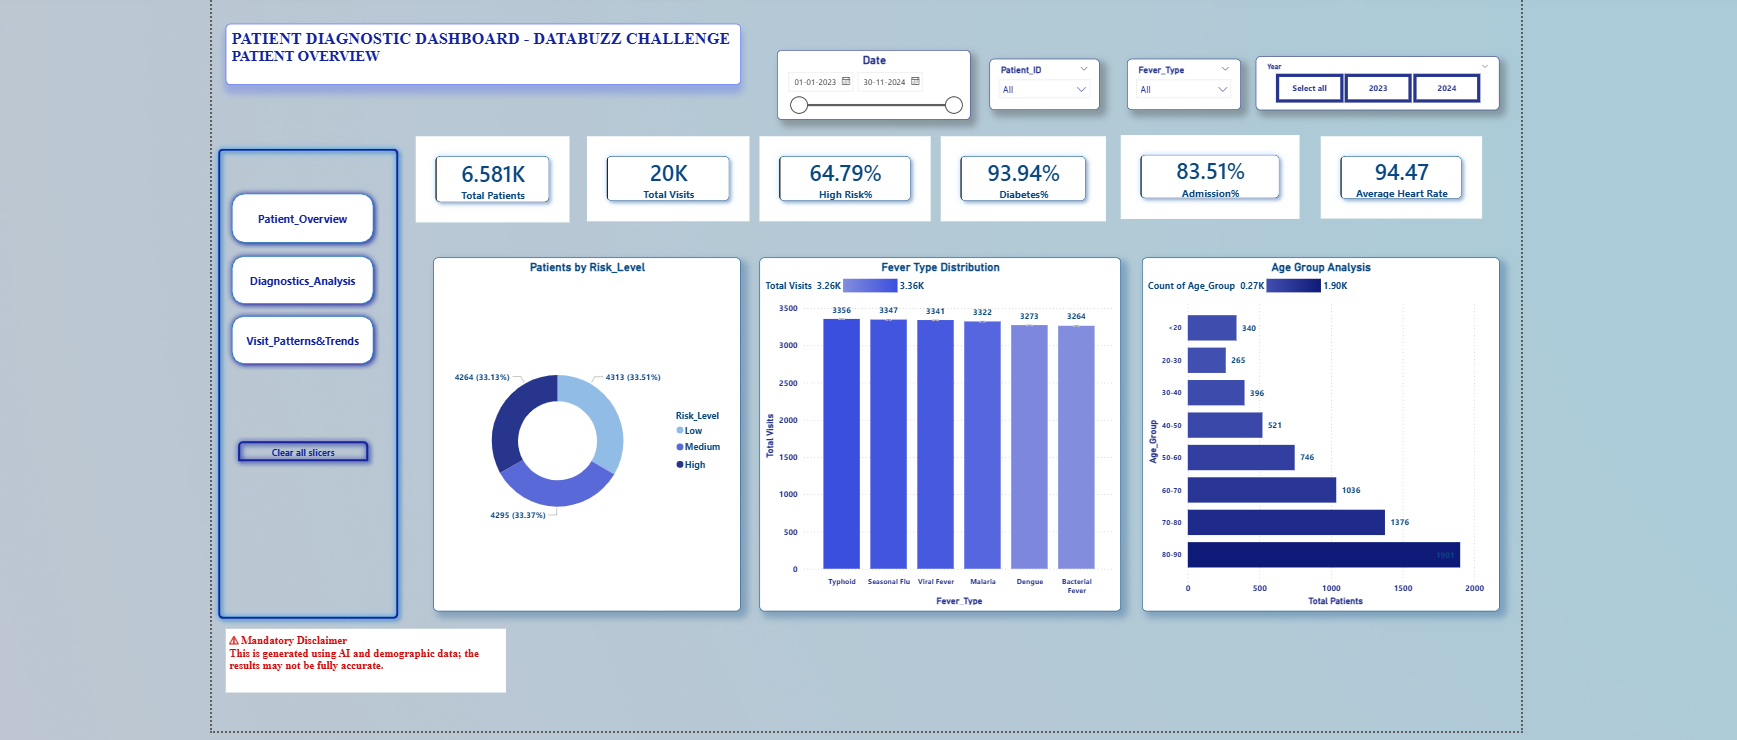

Layout of this report page (visuals, bound fields, positions):
{"tool":"powerbi","page":{"name":"Patient_Overview","canvas":[1920,1080],"ordinal":0},"visuals":[{"type":"cardVisual","fields":{"Data":["KeyMeasures.High Risk%"]},"box":[803.4,207.3,251.3,124.7],"z":0},{"type":"slicer","title":"Date","fields":{"Values":["Patient_Symptoms.Visit_Date"]},"box":[829.1,80.7,284.3,102.7],"z":1000},{"type":"slicer","fields":{"Values":["Patient_Symptoms.Fever_Type"]},"box":[1342.7,93.5,166.9,75.2],"z":2000},{"type":"slicer","fields":{"Values":["Patient_Table.Patient_ID"]},"box":[1140.9,93.5,161.4,75.2],"z":3000},{"type":"cardVisual","fields":{"Data":["Patient_Symptoms.Diabetes Patient%"]},"box":[1069.4,207.3,242.1,124.7],"z":4000},{"type":"cardVisual","fields":{"Data":["Patient_Symptoms.Admission Rate%"]},"box":[1333.5,205.4,262.3,122.9],"z":5000},{"type":"cardVisual","fields":{"Data":["Patient_Symptoms.Total Patients"]},"box":[299,207.3,225.6,126.6],"z":6000},{"type":"cardVisual","fields":{"Data":["Patient_Symptoms.Total Visits"]},"box":[550.3,207.3,238.5,124.7],"z":7000},{"type":"donutChart","title":"Patients by Risk_Level","fields":{"Y":["Patient_Symptoms.Total Patients"],"Category":["Patient_Symptoms.Risk_Level"]},"box":[324.7,385.2,451.2,519.1],"z":8000},{"type":"columnChart","title":"Fever Type Distribution","fields":{"Y":["Patient_Symptoms.Total Visits"],"Category":["Fever_Type_Profile.Fever_Type"]},"box":[803.4,385.2,530.1,519.1],"z":9000},{"type":"barChart","title":"Age Group Analysis","fields":{"Category":["Patient_Table.Age_Group"],"Y":["Patient_Symptoms.Total Patients"]},"box":[1364.7,385.2,524.6,519.1],"z":10000},{"type":"cardVisual","fields":{"Data":["Patient_Symptoms.Average Heart Rate"]},"box":[1627,207.3,236.6,121.1],"z":11000},{"type":"slicer","fields":{"Values":["Patient_Symptoms.Visit_Date.Variation.Date Hierarchy.Year"]},"box":[1531.6,89.9,357.7,78.9],"z":12000},{"type":"actionButton","box":[0,216.4,282.5,708],"z":13000},{"type":"shape","box":[20.2,282.5,225.6,89.9],"z":14000},{"type":"shape","box":[20.2,374.2,225.6,88],"z":15000},{"type":"shape","box":[20.2,462.2,225.6,88],"z":16000},{"type":"actionButton","box":[29.3,645.7,209.1,47.7],"z":17000},{"type":"textbox","box":[20.2,42.2,755.7,89.9],"z":18000},{"type":"textbox","box":[20.2,930,410.9,93.5],"z":19000}]}

Visuals, with their boxes on the page's 1920x1080 design canvas (x1, y1, x2, y2). These are canvas units, not pixel positions in the 1737x740 screenshot, which may show the page scaled, cropped or inside an application window:
cardVisual - KeyMeasures.High Risk%: box(803, 207, 1055, 332)
"Date" slicer: box(829, 81, 1113, 183)
slicer - Patient_Symptoms.Fever_Type: box(1343, 94, 1510, 169)
slicer - Patient_Table.Patient_ID: box(1141, 94, 1302, 169)
cardVisual - Patient_Symptoms.Diabetes Patient%: box(1069, 207, 1312, 332)
cardVisual - Patient_Symptoms.Admission Rate%: box(1334, 205, 1596, 328)
cardVisual - Patient_Symptoms.Total Patients: box(299, 207, 525, 334)
cardVisual - Patient_Symptoms.Total Visits: box(550, 207, 789, 332)
"Patients by Risk_Level" donutChart: box(325, 385, 776, 904)
"Fever Type Distribution" columnChart: box(803, 385, 1334, 904)
"Age Group Analysis" barChart: box(1365, 385, 1889, 904)
cardVisual - Patient_Symptoms.Average Heart Rate: box(1627, 207, 1864, 328)
slicer - Patient_Symptoms.Visit_Date.Variation.Date Hierarchy.Year: box(1532, 90, 1889, 169)
actionButton: box(0, 216, 282, 924)
shape: box(20, 282, 246, 372)
shape: box(20, 374, 246, 462)
shape: box(20, 462, 246, 550)
actionButton: box(29, 646, 238, 693)
textbox: box(20, 42, 776, 132)
textbox: box(20, 930, 431, 1024)
